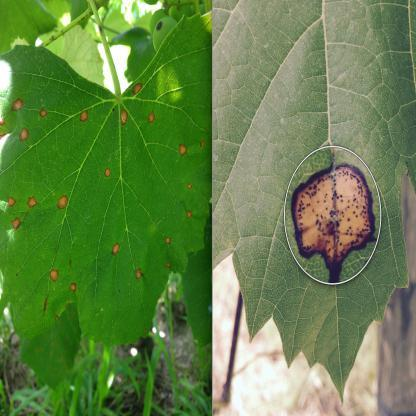grape leaf: (0, 13, 210, 366)
